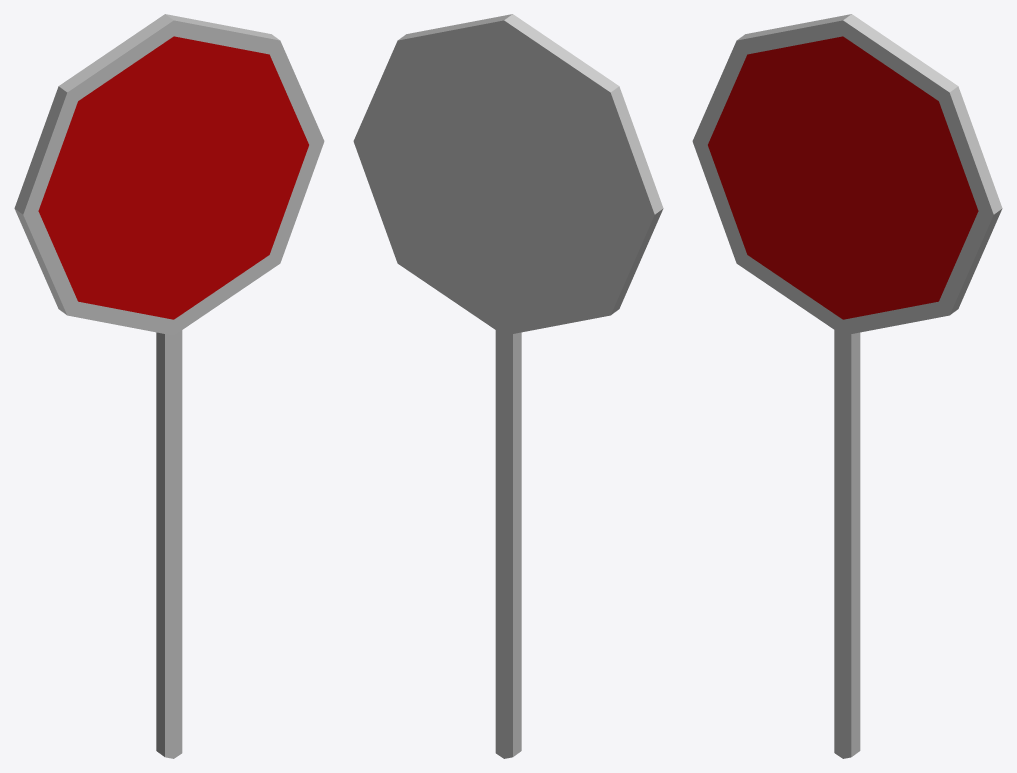
The model's file is sign_stop.obj.
The picture shows the model from 3 angles, left to right: view 1: azimuth 30°, elevation 25°; view 2: azimuth 150°, elevation 25°; view 3: azimuth 330°, elevation 25°; orthographic projection.
Visible parts, largest first — view 1: stop_cedula_Material.203, stop_cedula_Material.062, stop_cedula_Material.064; view 2: stop_cedula_Material.062; view 3: stop_cedula_Material.203, stop_cedula_Material.062, stop_cedula_Material.064.
Part boxes in pixels (box(x1,y1,x2,y2)): stop_cedula_Material.203: box(38, 36, 308, 319); stop_cedula_Material.062: box(14, 14, 279, 758); stop_cedula_Material.064: box(23, 20, 324, 335); stop_cedula_Material.062: box(353, 14, 663, 758); stop_cedula_Material.203: box(708, 36, 978, 319); stop_cedula_Material.062: box(737, 14, 1002, 758); stop_cedula_Material.064: box(692, 20, 993, 335).
Bounding box in the file's own units: 1.29 × 3.03 × 0.0651.
